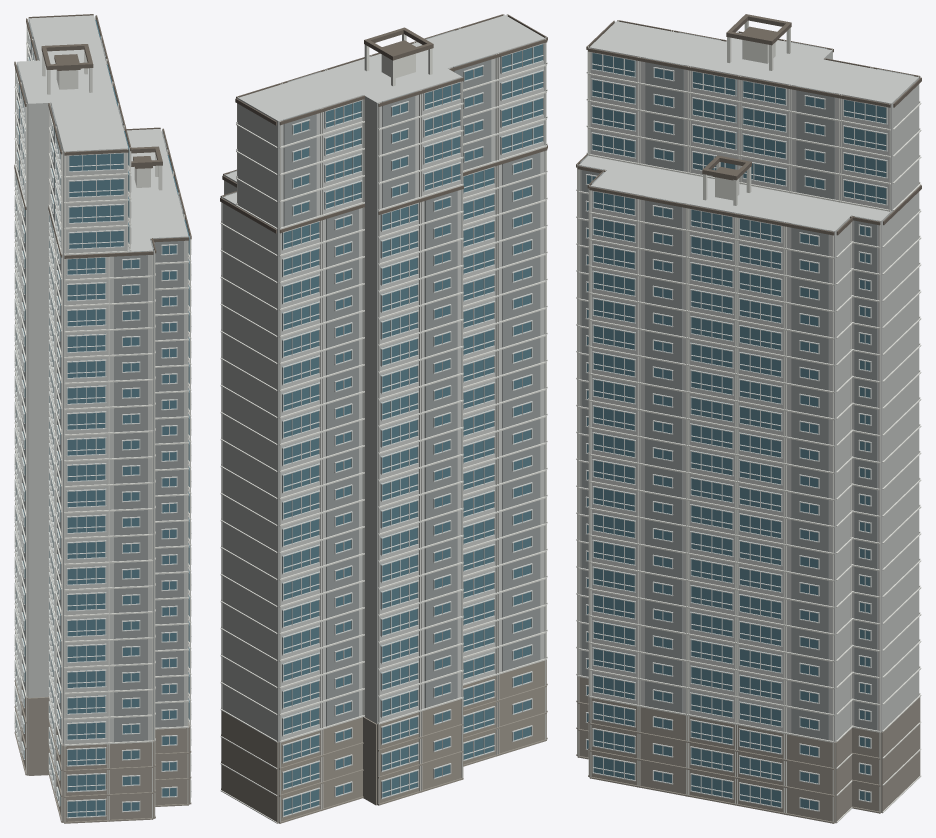
File: bespoke-banpo-xi-107.glb
3 renders of one model, left to right at view 1: azimuth 30°, elevation 25°; view 2: azimuth 150°, elevation 25°; view 3: azimuth 270°, elevation 25°, orthographic. The views are drawn at different scales.
Parts seen in each view (by area): view 1: BX107_editable_BX107_pale_silver_limestone, BX107_editable_BX107_grey_service_core, BX107_editable_BX107_blue_grey_broad_glazing, BX107_editable_BX107_white_window_frames, BX107_editable_BX107_ivory_course_bands, BX107_editable_BX107_warm_ground_stone, BX107_editable_BX107_dark_coping; view 2: BX107_editable_BX107_pale_silver_limestone, BX107_editable_BX107_blue_grey_broad_glazing, BX107_editable_BX107_grey_service_core, BX107_editable_BX107_ivory_course_bands, BX107_editable_BX107_white_window_frames, BX107_editable_BX107_warm_ground_stone, BX107_editable_BX107_dark_coping; view 3: BX107_editable_BX107_pale_silver_limestone, BX107_editable_BX107_blue_grey_broad_glazing, BX107_editable_BX107_grey_service_core, BX107_editable_BX107_ivory_course_bands, BX107_editable_BX107_white_window_frames, BX107_editable_BX107_warm_ground_stone, BX107_editable_BX107_dark_coping.
Boxes of the visible parts, <box> form: BX107_editable_BX107_pale_silver_limestone: <box>17,15,188,822</box>; BX107_editable_BX107_grey_service_core: <box>16,21,183,742</box>; BX107_editable_BX107_blue_grey_broad_glazing: <box>16,20,189,817</box>; BX107_editable_BX107_white_window_frames: <box>14,19,191,818</box>; BX107_editable_BX107_ivory_course_bands: <box>14,15,191,821</box>; BX107_editable_BX107_warm_ground_stone: <box>14,670,191,823</box>; BX107_editable_BX107_dark_coping: <box>14,14,191,258</box>; BX107_editable_BX107_pale_silver_limestone: <box>222,15,545,822</box>; BX107_editable_BX107_blue_grey_broad_glazing: <box>282,44,542,815</box>; BX107_editable_BX107_grey_service_core: <box>225,30,540,726</box>; BX107_editable_BX107_ivory_course_bands: <box>220,14,547,823</box>; BX107_editable_BX107_white_window_frames: <box>282,43,544,817</box>; BX107_editable_BX107_warm_ground_stone: <box>221,660,547,823</box>; BX107_editable_BX107_dark_coping: <box>220,14,547,233</box>; BX107_editable_BX107_pale_silver_limestone: <box>579,21,918,822</box>; BX107_editable_BX107_blue_grey_broad_glazing: <box>587,53,886,810</box>; BX107_editable_BX107_grey_service_core: <box>580,32,913,740</box>; BX107_editable_BX107_ivory_course_bands: <box>576,20,921,823</box>; BX107_editable_BX107_white_window_frames: <box>585,52,887,811</box>; BX107_editable_BX107_warm_ground_stone: <box>576,677,920,823</box>; BX107_editable_BX107_dark_coping: <box>576,14,921,235</box>.
Size of the model in its own units: 22.49 by 72.9 by 31.33.
